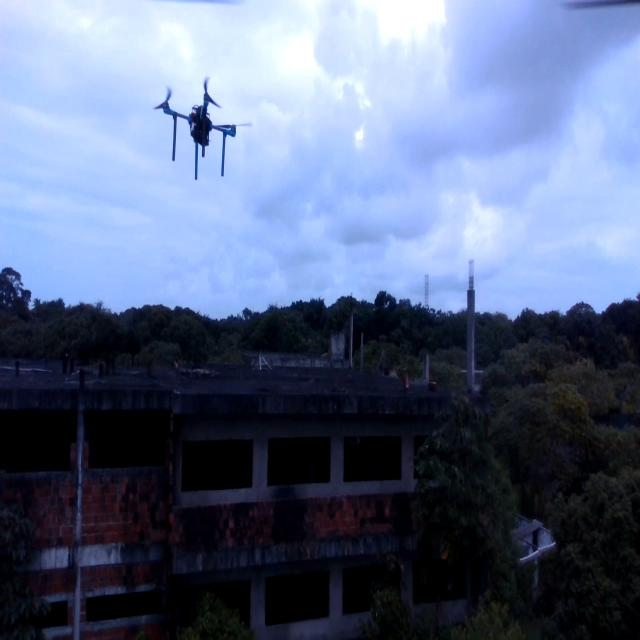-uav-: (140, 70, 270, 198)
